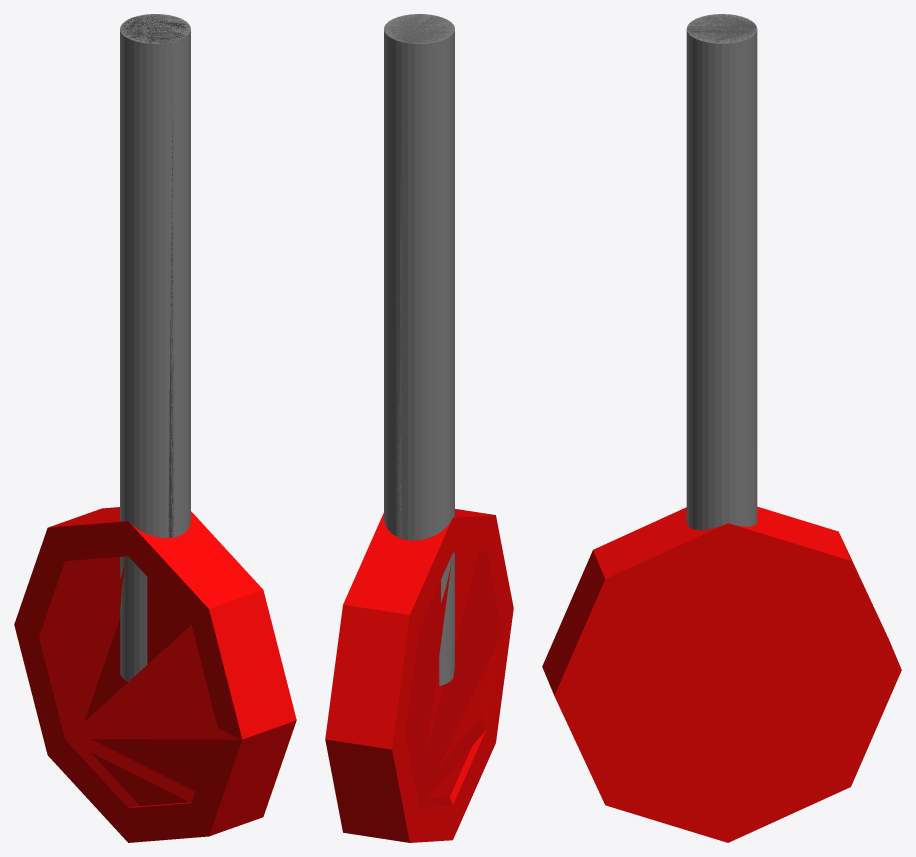
File: StopSignfbx.fbx
3 renders of one model, left to right at view 1: azimuth 30°, elevation 25°; view 2: azimuth 150°, elevation 25°; view 3: azimuth 270°, elevation 25°, orthographic.
Parts seen in each view (by area): view 1: Cylinder.001, Cylinder; view 2: Cylinder.001, Cylinder; view 3: Cylinder.001, Cylinder.
Boxes of the visible parts, x1,y1,x2,y2 form: Cylinder.001: [14, 507, 296, 842]; Cylinder: [120, 14, 190, 681]; Cylinder.001: [325, 509, 513, 842]; Cylinder: [384, 14, 454, 686]; Cylinder.001: [542, 506, 901, 842]; Cylinder: [686, 14, 757, 529].
Bounding box in the file's own units: 18.53 × 125 × 50.98.
